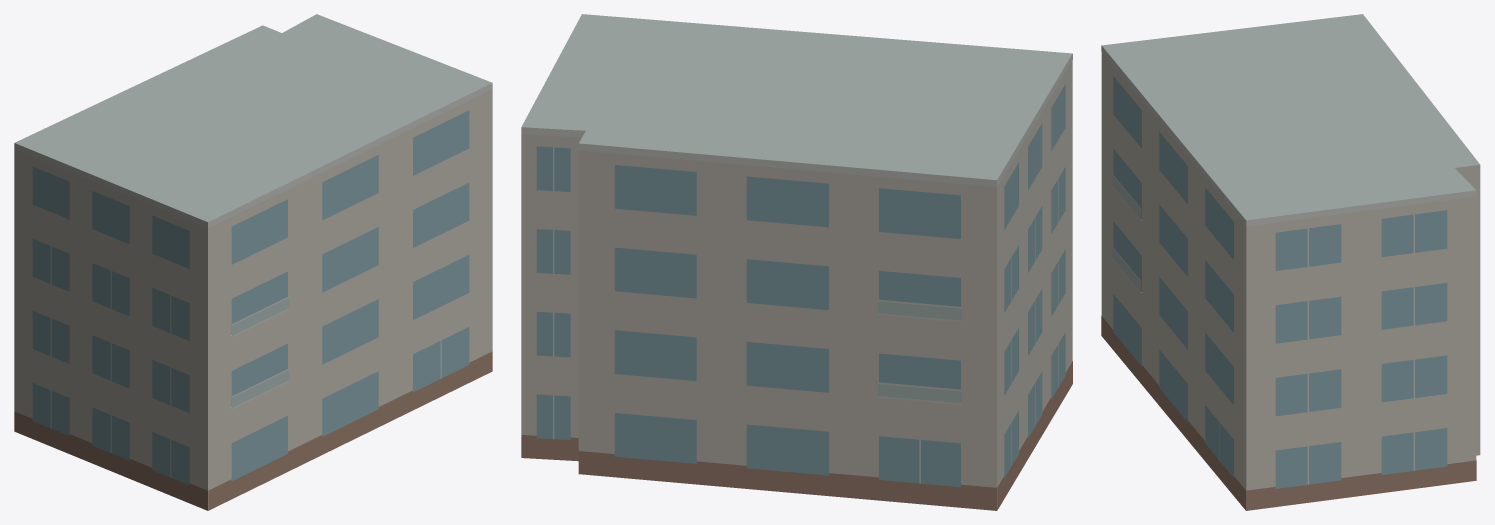
File: survey-upis-32626163.glb
3 views of the same model, side by side, from view 1: azimuth 30°, elevation 25°; view 2: azimuth 150°, elevation 25°; view 3: azimuth 270°, elevation 25° (orthographic). The views are drawn at different scales.
Parts seen in each view (by area): view 1: survey-upis-32626163.tmp; view 2: survey-upis-32626163.tmp; view 3: survey-upis-32626163.tmp.
Boxes of the visible parts, box(x1,y1,x2,y2) form: survey-upis-32626163.tmp: box(14, 14, 492, 510); survey-upis-32626163.tmp: box(521, 14, 1072, 510); survey-upis-32626163.tmp: box(1101, 14, 1480, 510).
Bounding box in the file's own units: 17.69 × 11.6 × 13.72.
